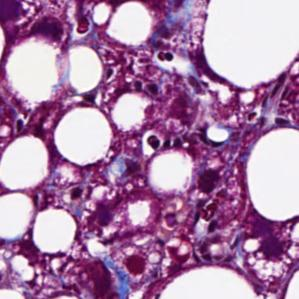inflammation: (61, 181, 96, 207), (140, 130, 168, 160), (104, 65, 121, 87)
